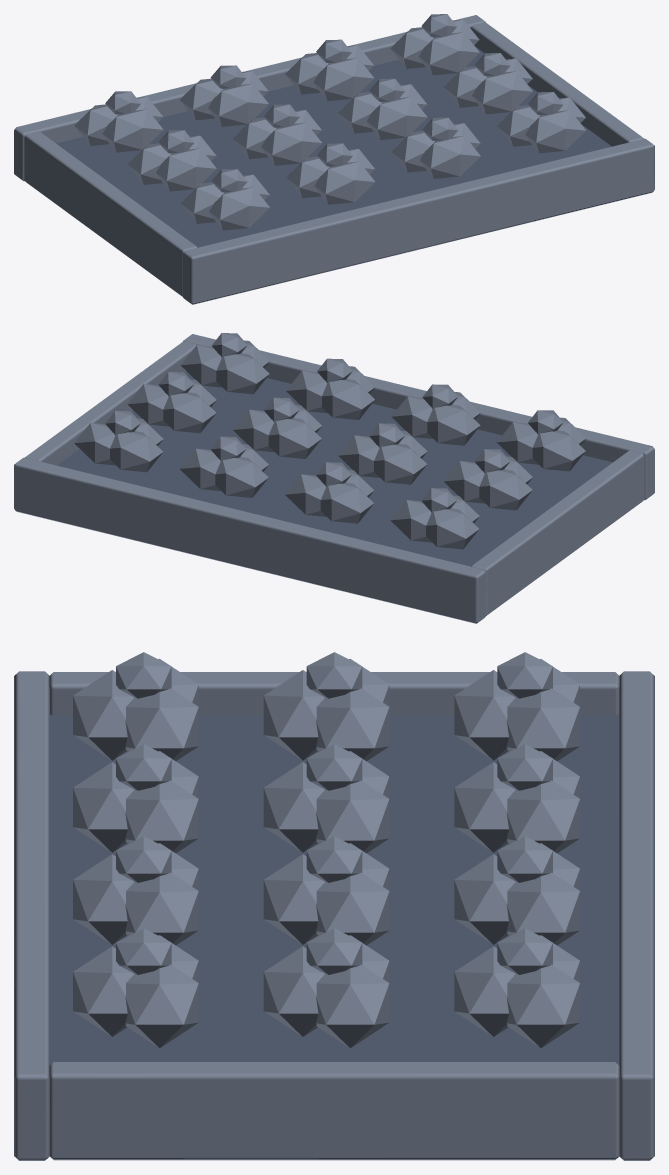
The model's file is 菜圃模块-lite.glb.
3 renders of one model, top to bottom at view 1: azimuth 30°, elevation 25°; view 2: azimuth 150°, elevation 25°; view 3: azimuth 270°, elevation 25°, orthographic. The views are drawn at different scales.
Parts seen in each view (by area): view 1: garden-vegetable-bed; view 2: garden-vegetable-bed; view 3: garden-vegetable-bed.
Boxes of the visible parts, x1,y1,x2,y2 form: garden-vegetable-bed: (14,14,654,304); garden-vegetable-bed: (14,333,654,623); garden-vegetable-bed: (14,652,654,1160).
Bounding box in the file's own units: 1.5 × 0.28 × 1.
